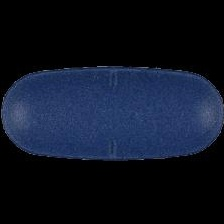0173-0565: (0, 0, 224, 224)
